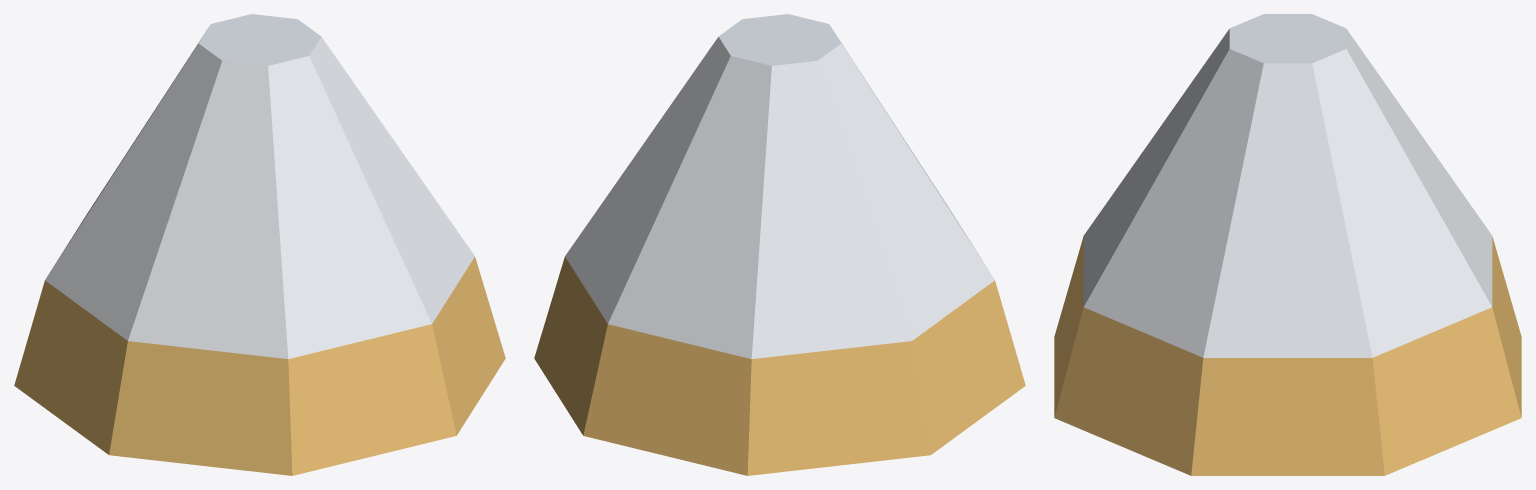
File: rocket_topA.glb
The picture shows the model from 3 angles, left to right: view 1: azimuth 30°, elevation 25°; view 2: azimuth 150°, elevation 25°; view 3: azimuth 270°, elevation 25°; orthographic projection.
Visible parts, largest first — view 1: rocket_topA; view 2: rocket_topA; view 3: rocket_topA.
Boxes of the visible parts, x1,y1,x2,y2 form: rocket_topA: (14, 14, 505, 475); rocket_topA: (534, 14, 1025, 475); rocket_topA: (1054, 14, 1521, 475).
Size of the model in its own units: 1 by 0.8 by 1.
